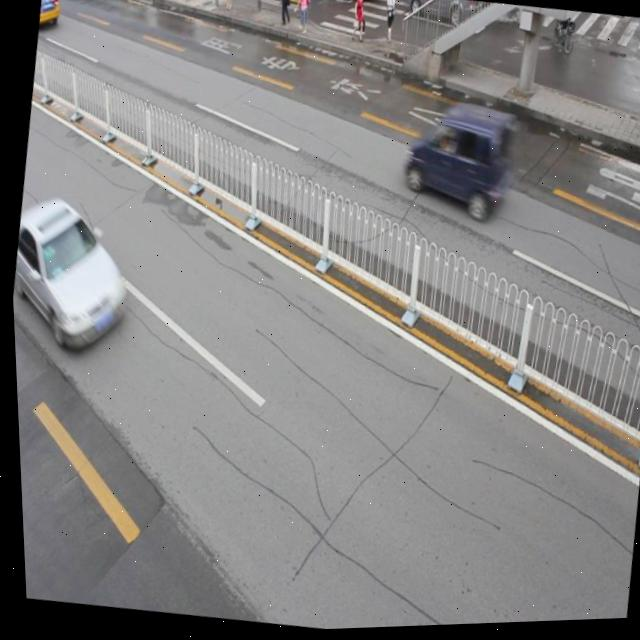car: (7, 191, 139, 353), (398, 97, 515, 222), (37, 0, 64, 31)
